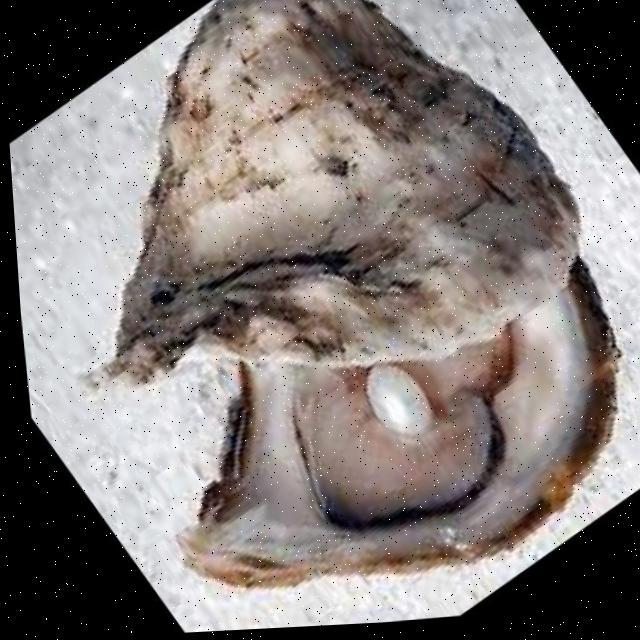Oyster-Indeterminate: (107, 0, 581, 385)
Oyster-Open: (183, 258, 616, 589)
